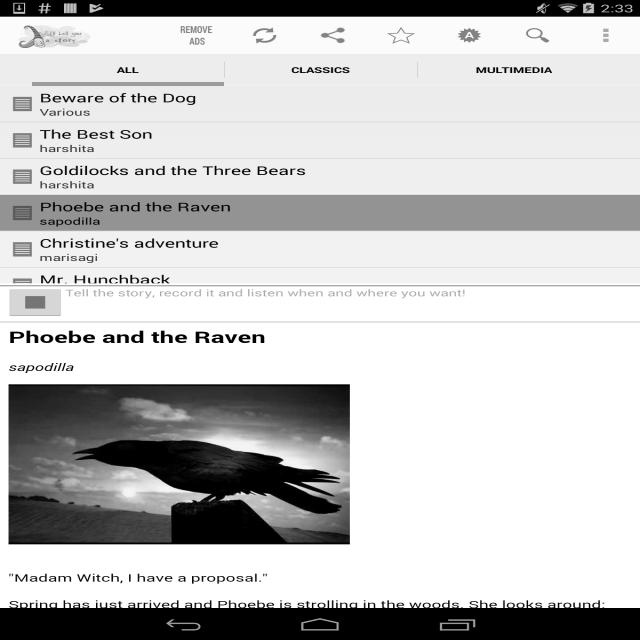ImageButton: (571, 16, 640, 54), (5, 286, 65, 318)
ImageView: (13, 23, 94, 48), (6, 198, 40, 228), (6, 234, 40, 264), (6, 162, 40, 191), (6, 271, 40, 300), (6, 90, 40, 118), (6, 126, 40, 154)
TextView: (65, 286, 466, 318), (40, 162, 306, 178), (39, 198, 231, 215), (40, 235, 219, 251), (40, 89, 196, 106), (162, 17, 231, 54), (230, 17, 299, 54), (435, 17, 504, 54), (503, 17, 572, 54), (299, 17, 367, 54), (367, 17, 435, 54), (40, 271, 170, 287), (39, 126, 152, 142), (476, 64, 552, 76), (40, 251, 98, 264), (40, 215, 100, 227), (292, 64, 351, 76), (40, 142, 94, 155), (40, 178, 94, 191), (40, 106, 91, 118), (116, 64, 138, 76)
